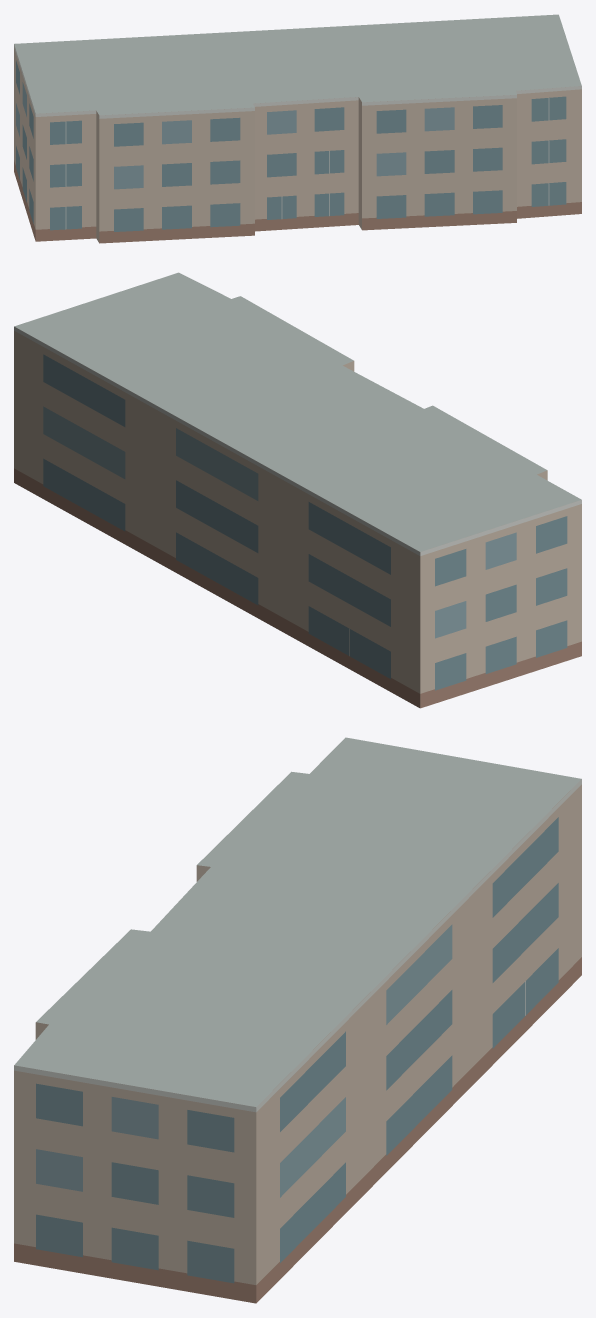
The model's file is survey-upis-32753311.glb.
The picture shows the model from 3 angles, top to bottom: view 1: azimuth 30°, elevation 25°; view 2: azimuth 150°, elevation 25°; view 3: azimuth 270°, elevation 25°; orthographic projection. The views are drawn at different scales.
Visible parts, largest first — view 1: survey-upis-32753311.tmp; view 2: survey-upis-32753311.tmp; view 3: survey-upis-32753311.tmp.
Boxes of the visible parts, <box> form: survey-upis-32753311.tmp: <box>14,14,581,243</box>; survey-upis-32753311.tmp: <box>14,272,581,708</box>; survey-upis-32753311.tmp: <box>14,737,581,1303</box>.
Size of the model in its own units: 36.96 by 9.15 by 23.99.
